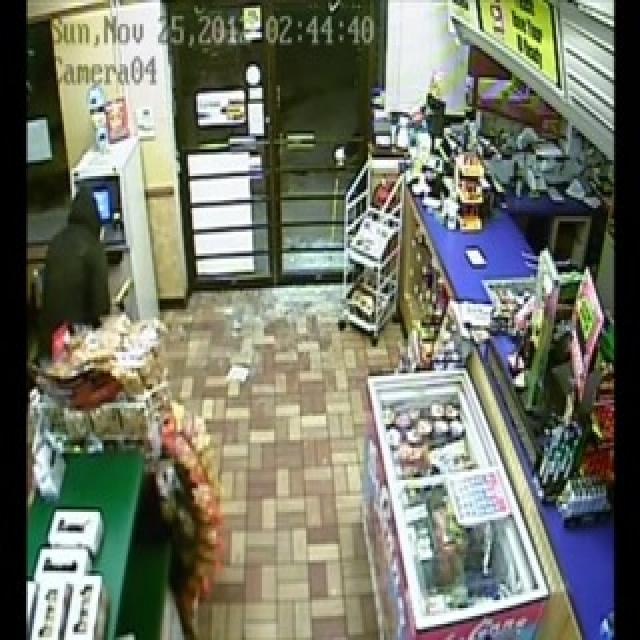thief: (48, 185, 146, 322)
